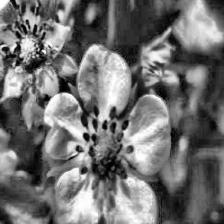Blossom Blight: (73, 104, 137, 194), (0, 2, 60, 93)
